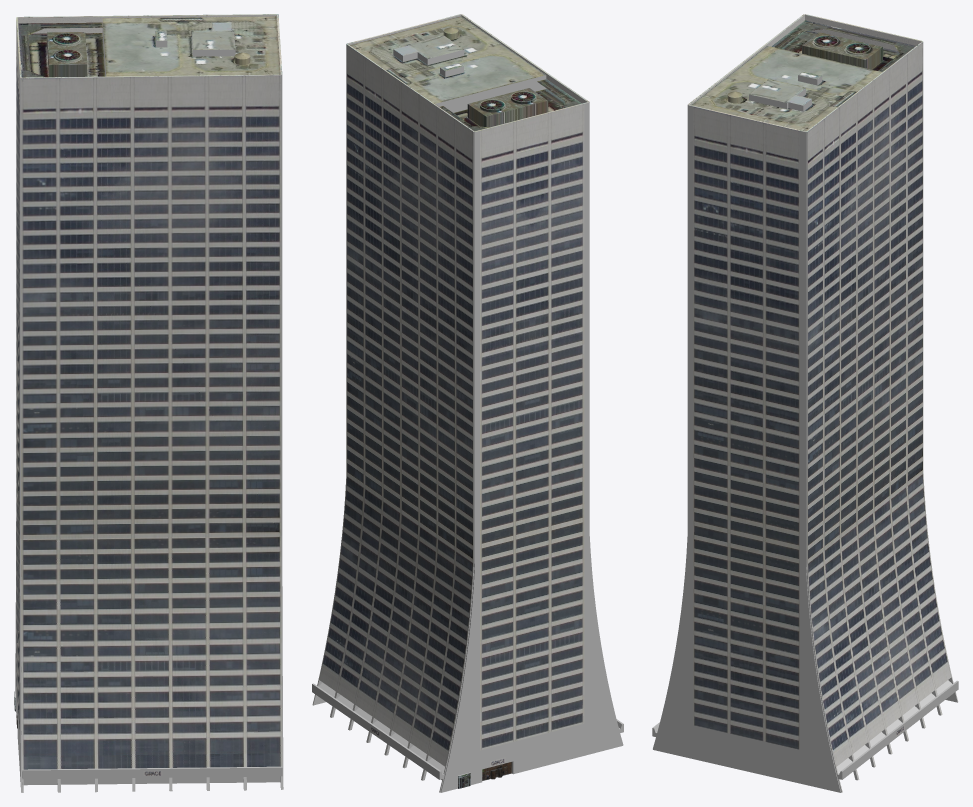
3 views of the same model, side by side, from view 1: azimuth 30°, elevation 25°; view 2: azimuth 150°, elevation 25°; view 3: azimuth 270°, elevation 25° (orthographic). The views are drawn at different scales.
Parts seen in each view (by area): view 1: SketchUp (×11); view 2: SketchUp (×9); view 3: SketchUp (×10).
Part boxes in pixels (box(x1,y1,x2,y2)): SketchUp (×11): box(14, 14, 283, 792); SketchUp (×9): box(312, 14, 623, 792); SketchUp (×10): box(652, 14, 958, 792).
Size of the model in its own units: 3311 by 3191 by 7577.
